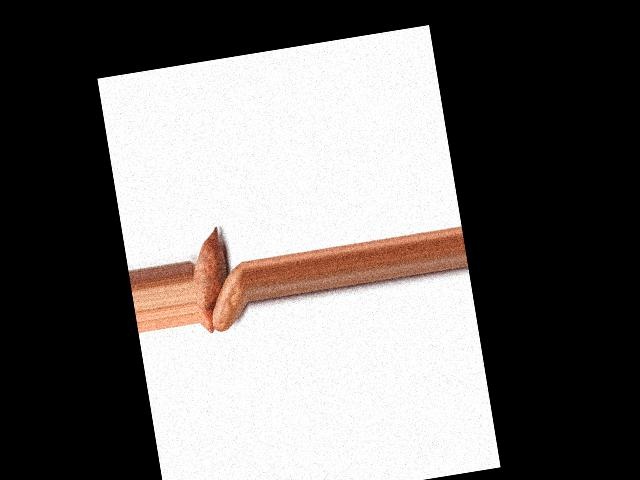sweet_potato: (204, 258, 252, 333)
